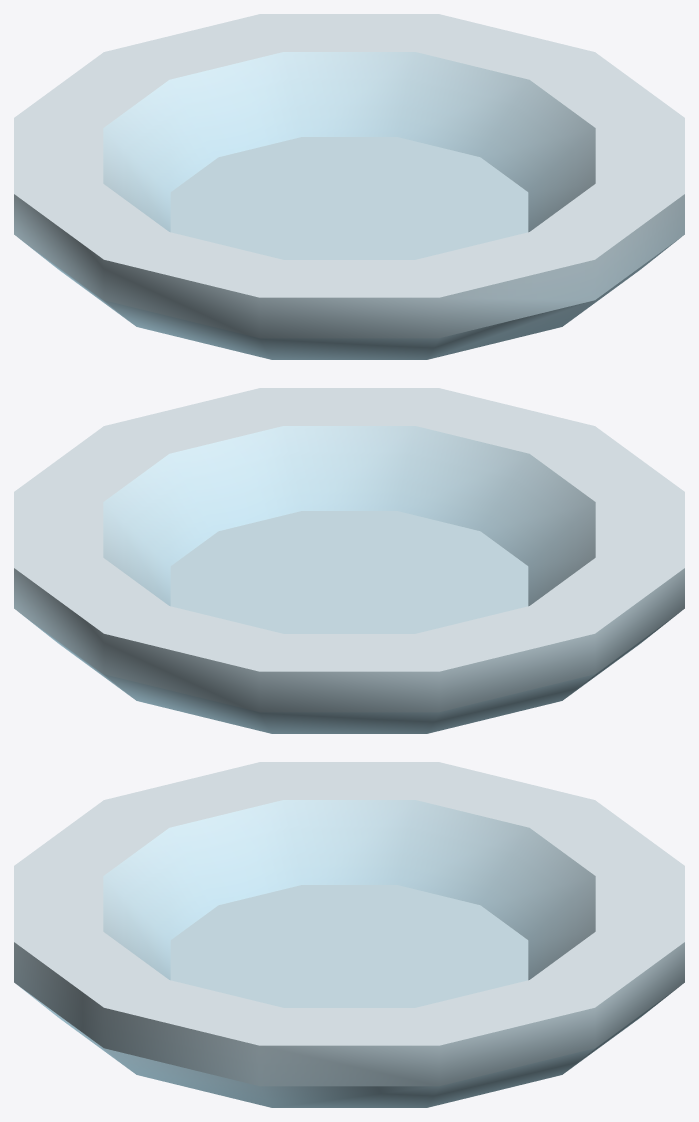
Rendered from plate_small_white.obj.
3 views of the same model, one above another, from view 1: azimuth 30°, elevation 25°; view 2: azimuth 150°, elevation 25°; view 3: azimuth 270°, elevation 25° (orthographic).
Visible parts, largest first — view 1: plate_small_white; view 2: plate_small_white; view 3: plate_small_white.
Boxes of the visible parts, left/top/right/bottom form: plate_small_white: left=14, top=14, right=684, bottom=359; plate_small_white: left=14, top=388, right=684, bottom=733; plate_small_white: left=14, top=762, right=684, bottom=1107.
Size of the model in its own units: 0.75 by 0.1 by 0.75.
Materials: 1 (1 with a texture image).
